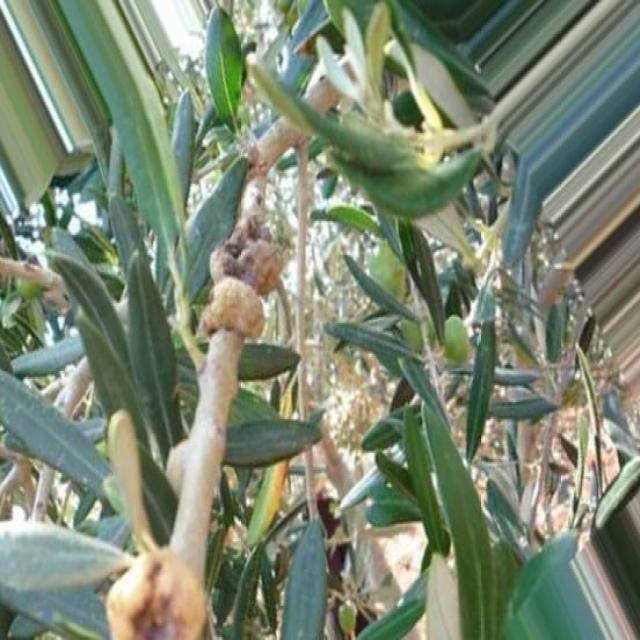Tuberculosis: (199, 210, 282, 337), (106, 553, 206, 638)
